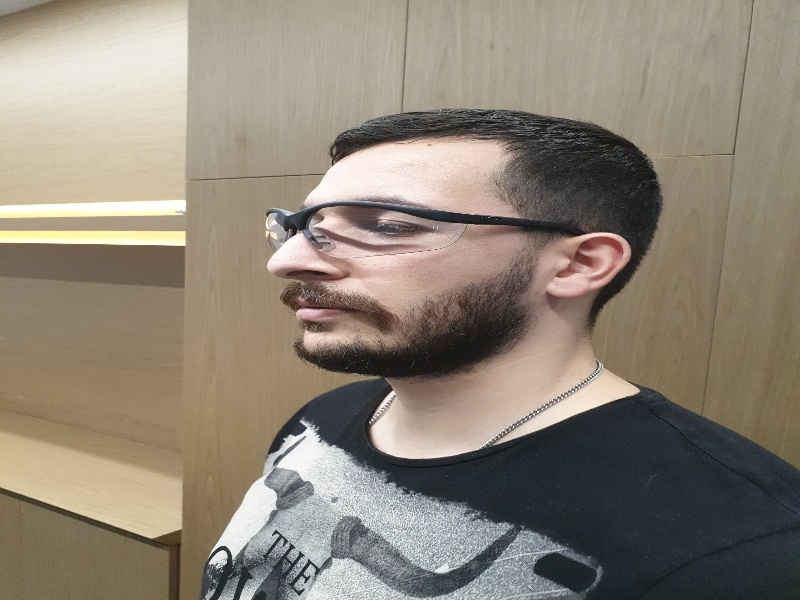Gozluk: (262, 200, 583, 264)
